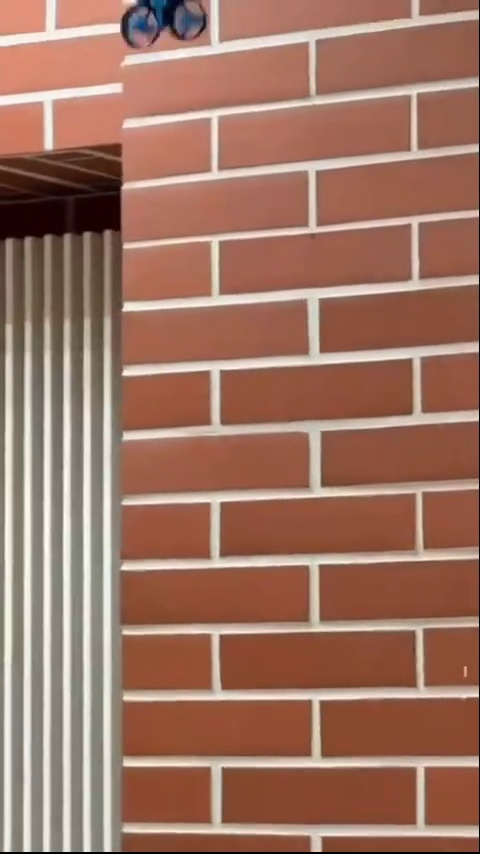drone: (102, 0, 215, 47)
